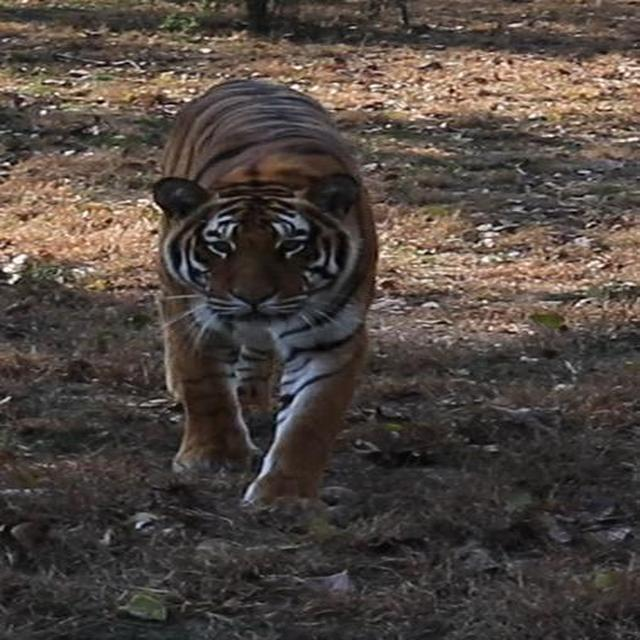tiger: (118, 68, 400, 546)
